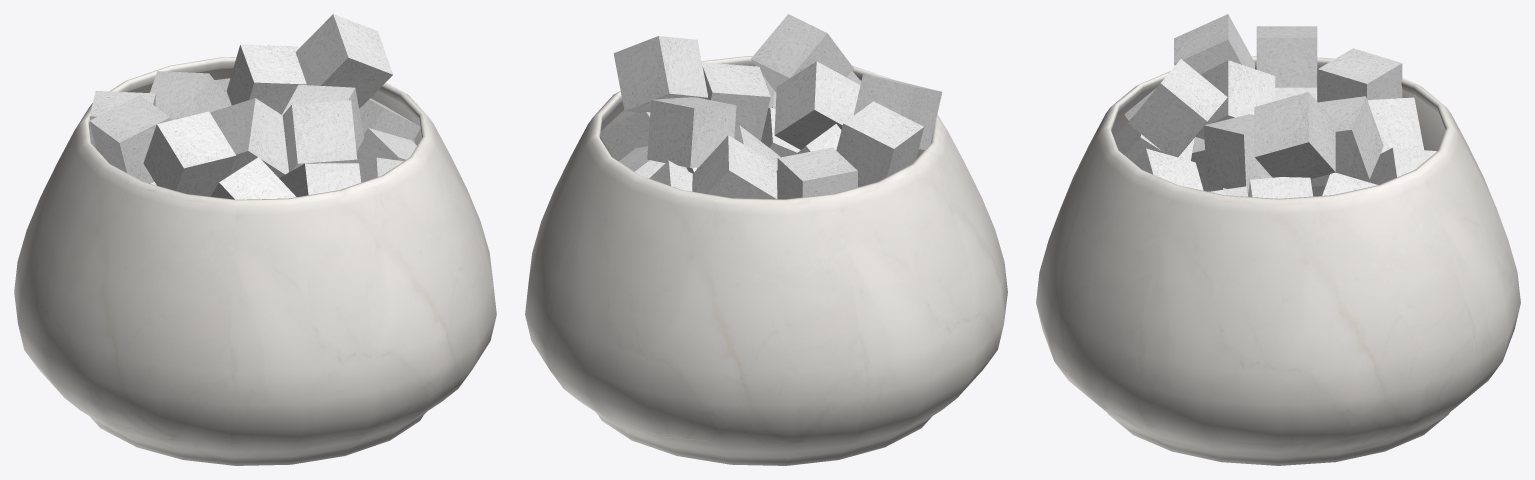
File: sugar.obj
3 renders of one model, left to right at view 1: azimuth 30°, elevation 25°; view 2: azimuth 150°, elevation 25°; view 3: azimuth 270°, elevation 25°, orthographic.
Parts seen in each view (by area): view 1: Teapot001, Box002, Box027, Box008, Box026, Box001, Box003, Box014, Box004, Box007, Box012, Box020 (+3 smaller); view 2: Teapot001, Box027, Box003, Box026, Box001, Box008, Box014, Box006, Box012, Box002, Box020, Box022 (+4 smaller); view 3: Teapot001, Box027, Box008, Box026, Box006, Box012, Box001, Box003, Box002, Box014, Box011, Box022 (+3 smaller).
Part boxes in pixels (x1,y1,x2,y2): Teapot001: [14, 57, 496, 465]; Box002: [143, 111, 236, 196]; Box027: [295, 14, 392, 108]; Box008: [282, 100, 357, 172]; Box026: [226, 44, 306, 114]; Box001: [89, 95, 170, 183]; Box003: [210, 98, 288, 177]; Box014: [150, 71, 231, 120]; Box004: [210, 157, 296, 199]; Box007: [279, 163, 361, 196]; Box012: [282, 84, 364, 151]; Box020: [359, 98, 420, 141]; Teapot001: [525, 56, 1007, 465]; Box027: [613, 36, 707, 112]; Box003: [774, 61, 860, 149]; Box026: [647, 97, 736, 167]; Box001: [836, 101, 924, 187]; Box008: [751, 14, 853, 92]; Box014: [692, 135, 777, 199]; Box006: [777, 147, 857, 199]; Box012: [702, 62, 770, 140]; Box002: [853, 74, 942, 149]; Box020: [600, 111, 650, 161]; Box022: [649, 160, 692, 191]; Teapot001: [1036, 56, 1520, 465]; Box027: [1254, 92, 1335, 179]; Box008: [1128, 59, 1227, 157]; Box026: [1311, 96, 1383, 186]; Box006: [1318, 48, 1402, 102]; Box012: [1204, 114, 1272, 192]; Box001: [1256, 26, 1317, 87]; Box003: [1195, 60, 1275, 139]; Box002: [1174, 14, 1254, 74]; Box014: [1367, 97, 1423, 153]; Box011: [1134, 148, 1203, 190]; Box022: [1363, 147, 1436, 184].
Size of the model in its own units: 40 by 32.33 by 40.
